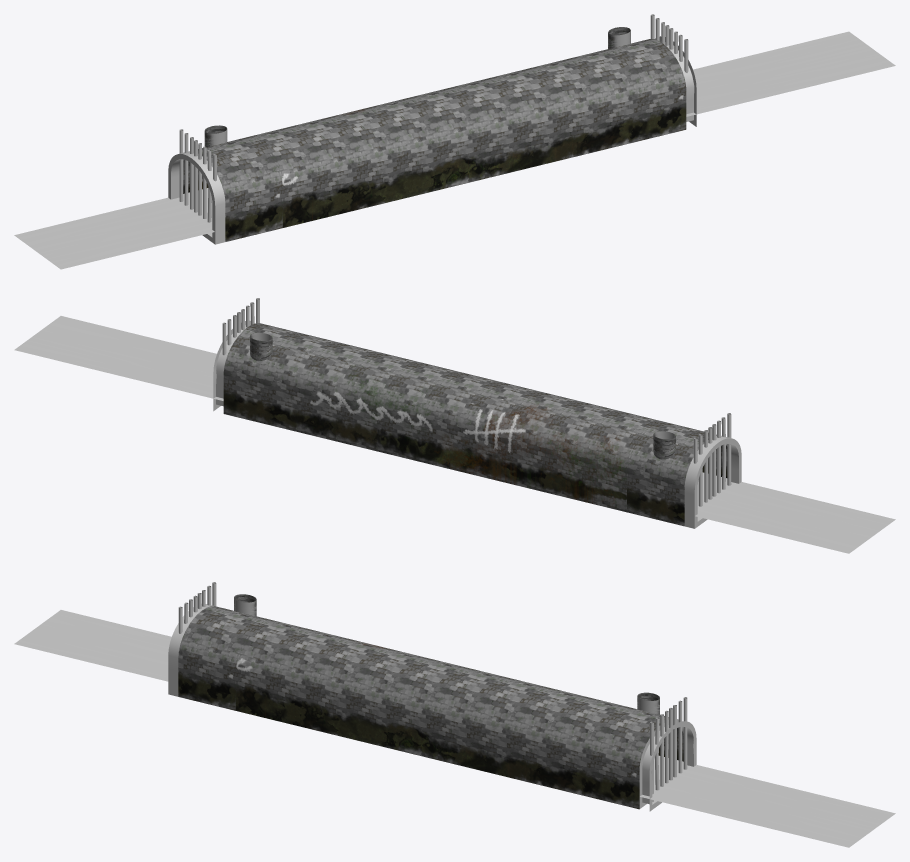
Rendered from Kanal.fbx.
3 views of the same model, one above another, from view 1: azimuth 30°, elevation 25°; view 2: azimuth 150°, elevation 25°; view 3: azimuth 330°, elevation 25° (orthographic).
Visible parts, largest first — view 1: Cylinder.004, Cylinder.008, Cylinder.010, Cylinder.005; view 2: Cylinder.004, Cylinder.008, Cylinder.010, Cylinder.005; view 3: Cylinder.004, Cylinder.008, Cylinder.005, Cylinder.010.
Part boxes in pixels (x1=…): Cylinder.004: x1=183, y1=27, x2=686, y2=241; Cylinder.008: x1=14, y1=31, x2=895, y2=269; Cylinder.010: x1=168, y1=129, x2=225, y2=244; Cylinder.005: x1=650, y1=14, x2=696, y2=126; Cylinder.004: x1=223, y1=323, x2=727, y2=526; Cylinder.008: x1=14, y1=316, x2=895, y2=553; Cylinder.010: x1=684, y1=413, x2=741, y2=528; Cylinder.005: x1=213, y1=298, x2=259, y2=411; Cylinder.004: x1=178, y1=594, x2=683, y2=809; Cylinder.008: x1=14, y1=610, x2=895, y2=847; Cylinder.005: x1=639, y1=697, x2=696, y2=811; Cylinder.010: x1=168, y1=582, x2=216, y2=696.
Bounding box in the file's own units: 11318 × 1086 × 1101.
